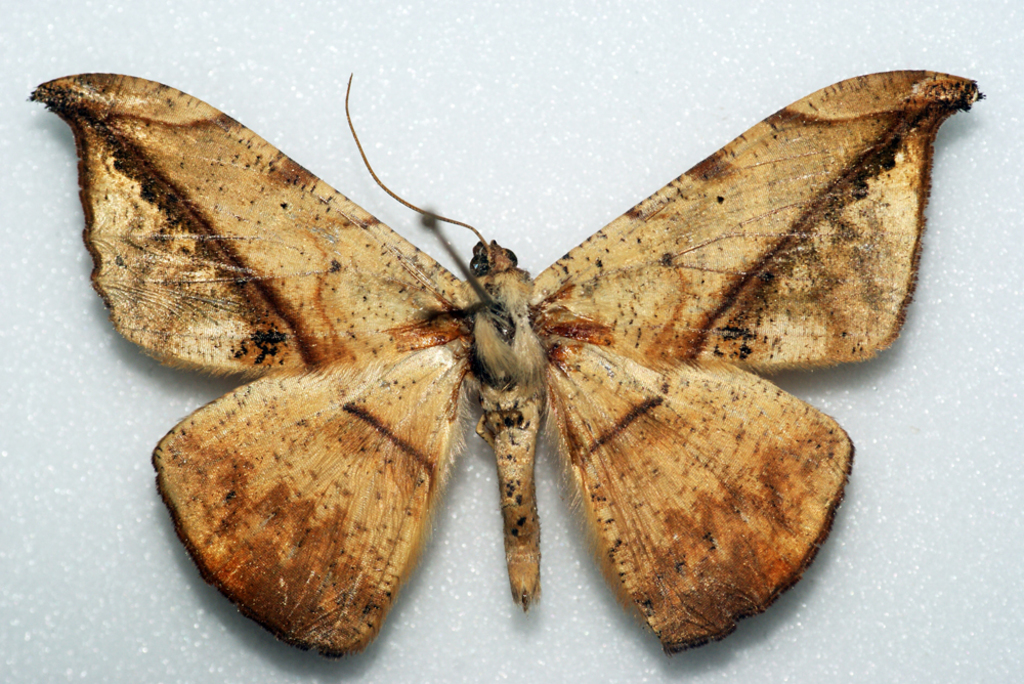Butterfly: (22, 42, 991, 657)
